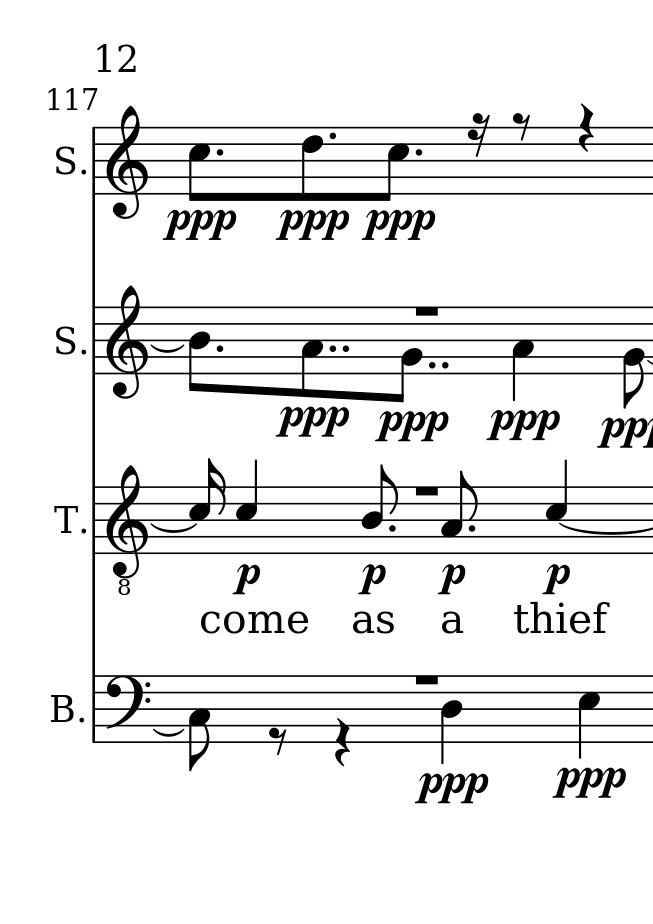1: (96, 42, 112, 75), (46, 85, 63, 114), (64, 85, 79, 114)
16_5: (189, 453, 227, 557)
2: (115, 42, 139, 74)
4_3: (510, 302, 541, 402)
4_4: (438, 670, 466, 764)
4_5: (233, 454, 263, 556), (544, 454, 570, 554), (576, 672, 604, 760)
7: (80, 85, 99, 115)
8_2: (380, 304, 423, 407), (619, 303, 644, 408)
8_3: (441, 467, 480, 553), (299, 300, 325, 400), (186, 673, 211, 774)
8_4: (356, 464, 398, 553), (185, 304, 212, 396)
8_5: (373, 124, 411, 203), (188, 123, 212, 203)
8_6: (300, 123, 324, 204)
Double_dot: (327, 341, 352, 355), (427, 359, 452, 373)
Fclef: (101, 669, 150, 744)
Gclef: (104, 104, 149, 219), (106, 284, 148, 399)
Lower_Gclef: (104, 463, 152, 597)
Rests1: (411, 480, 445, 501), (411, 668, 443, 688), (412, 301, 445, 320)
Rests16: (466, 109, 491, 157)
Rests4: (332, 716, 352, 769), (578, 103, 596, 156)
Rests8: (264, 725, 292, 757), (511, 110, 534, 144)
Single_barline: (87, 307, 103, 376), (86, 676, 102, 744), (87, 487, 103, 555), (88, 128, 102, 194)
Slur: (561, 521, 653, 534), (150, 521, 199, 534), (150, 728, 186, 739), (148, 344, 187, 354)
dot: (466, 520, 478, 535), (327, 129, 338, 144), (213, 146, 225, 159), (213, 342, 225, 355), (387, 523, 399, 536), (414, 146, 423, 160)
p: (231, 562, 265, 598), (439, 562, 469, 597), (543, 564, 570, 594), (361, 564, 384, 597)
ppp: (548, 760, 626, 808), (273, 403, 351, 444), (358, 206, 435, 247), (160, 204, 240, 243), (412, 769, 489, 809), (375, 404, 450, 444), (485, 406, 560, 443), (273, 207, 348, 243)
